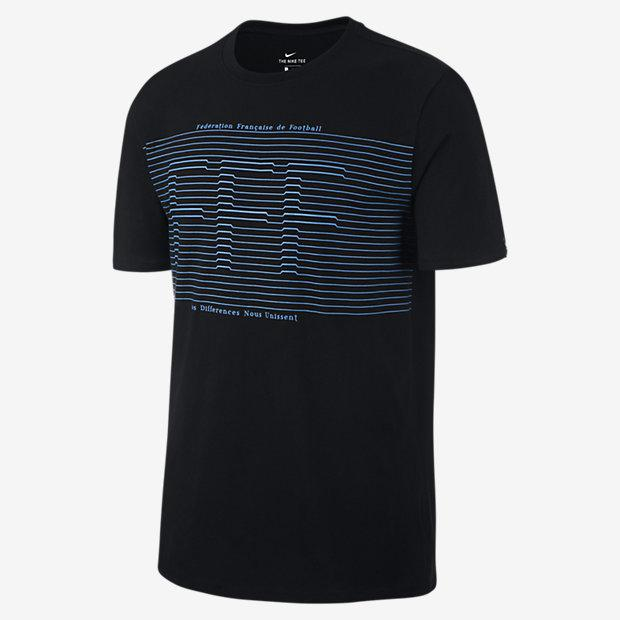teeshirt: (76, 12, 525, 620)
